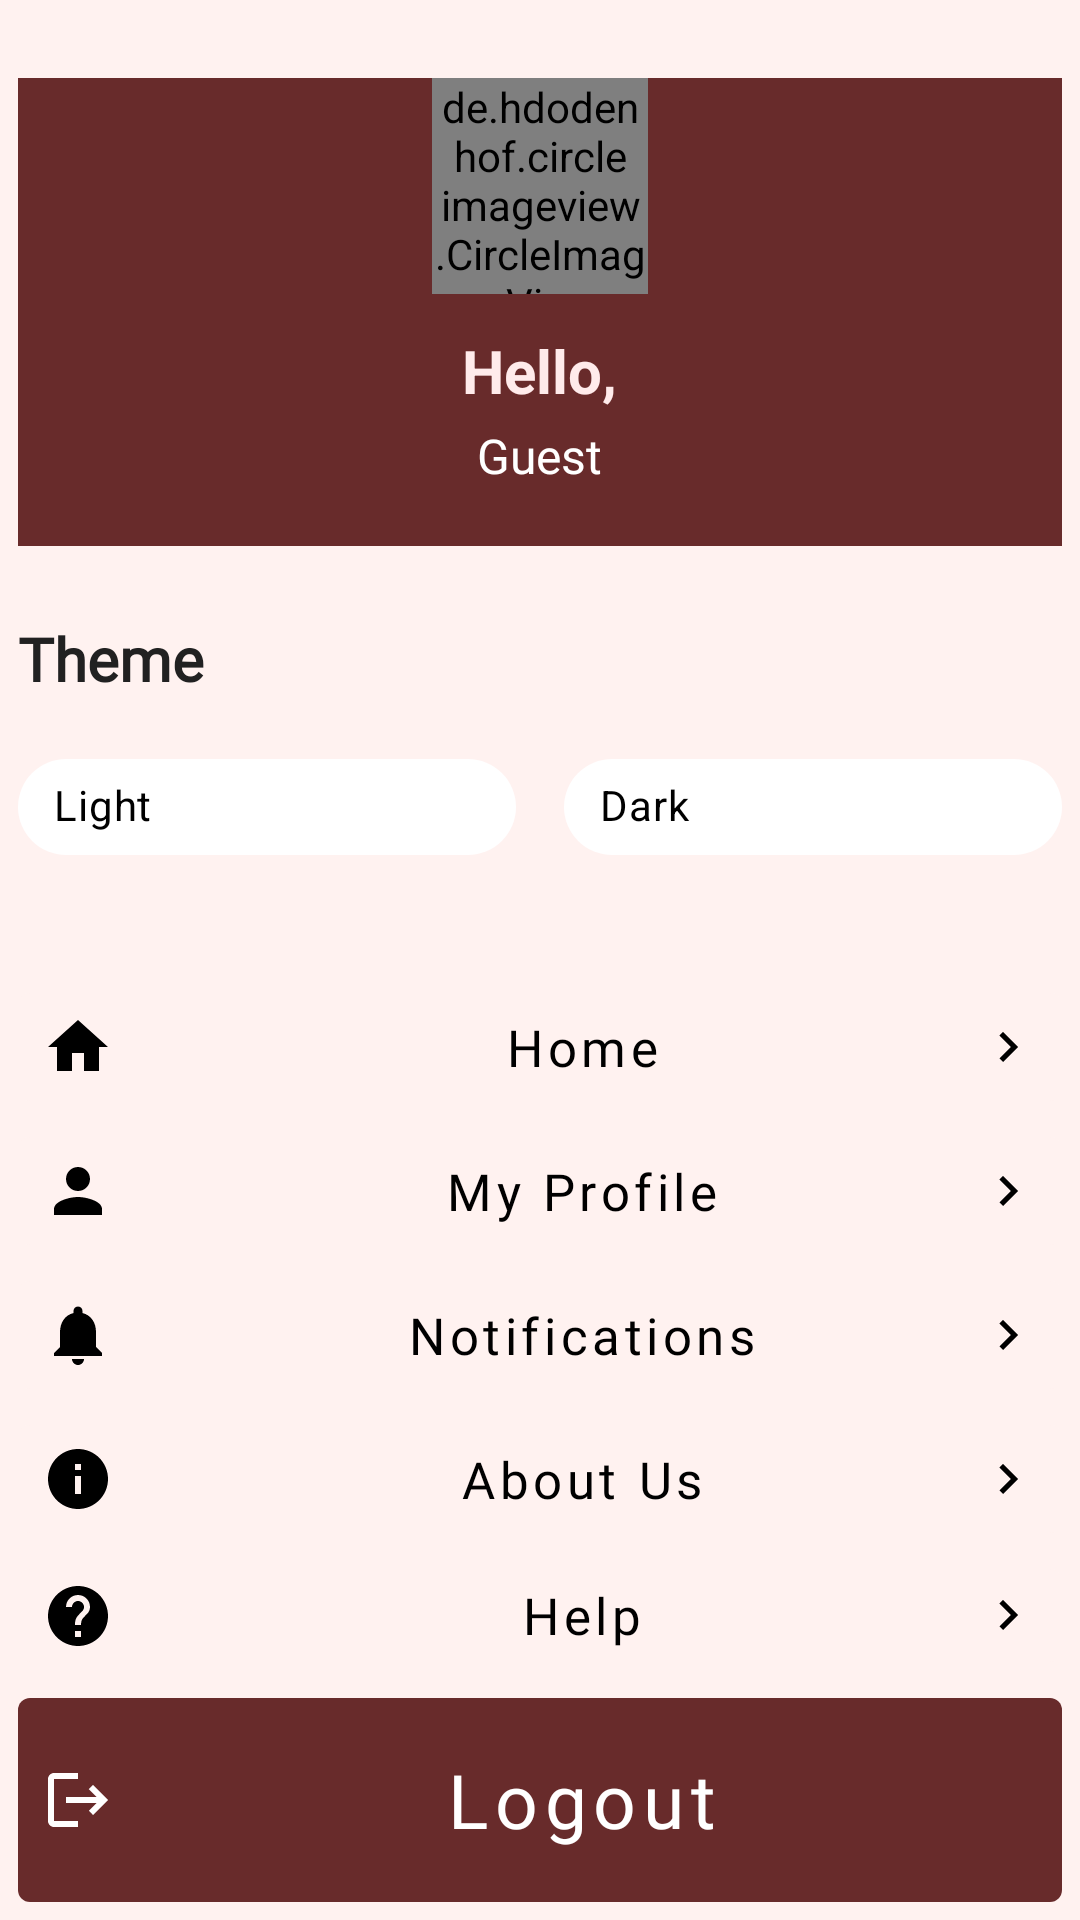

Named icons in this screenshot (1080w x 1920h) and their bounding boxes, (x1, y1, x2, y2):
chevron right: (999, 1032, 1018, 1062), (999, 1176, 1018, 1206), (999, 1320, 1018, 1350), (999, 1464, 1018, 1494), (999, 1600, 1018, 1630)
